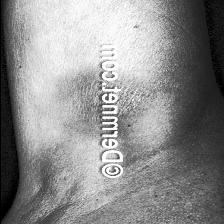Potentially Malignant Skin Tumors: (74, 69, 94, 130), (124, 79, 140, 105)
